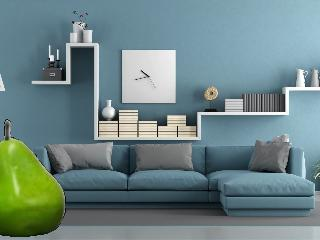pear: (0, 121, 66, 235)
